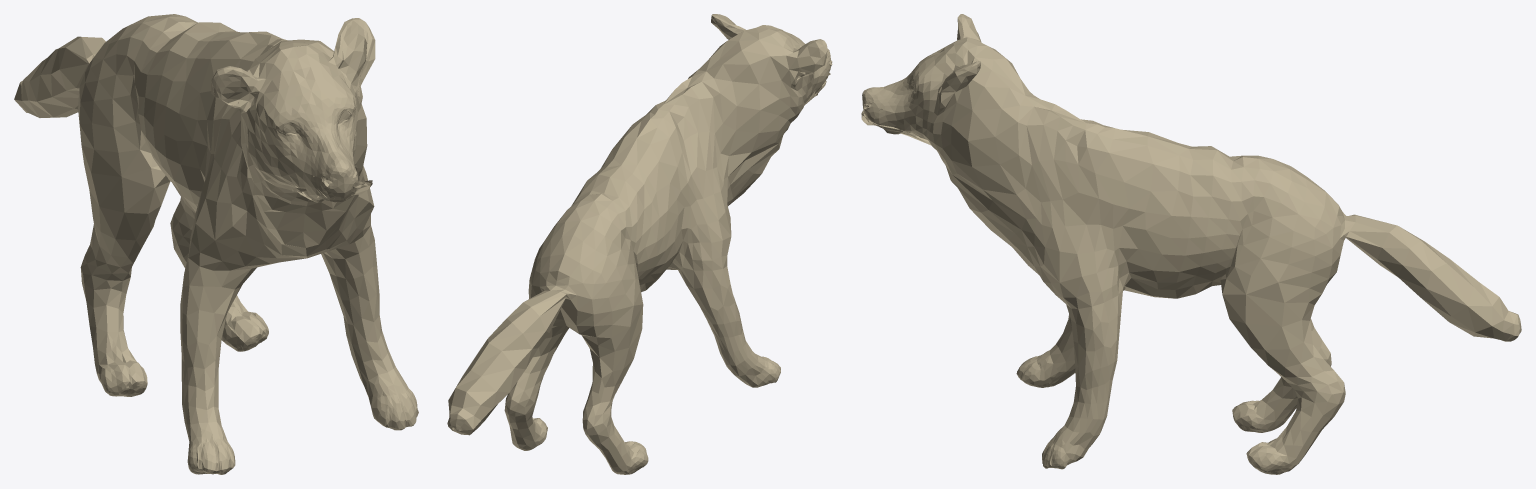
3 renders of one model, left to right at view 1: azimuth 30°, elevation 25°; view 2: azimuth 150°, elevation 25°; view 3: azimuth 270°, elevation 25°, orthographic. The views are drawn at different scales.
Parts seen in each view (by area): view 1: world; view 2: world; view 3: world.
Part boxes in pixels (x1,y1,x2,y2): world: (14, 14, 418, 474); world: (447, 14, 832, 474); world: (861, 14, 1521, 474).
Bounding box in the file's own units: 0.4596 × 0.8254 × 1.26.
